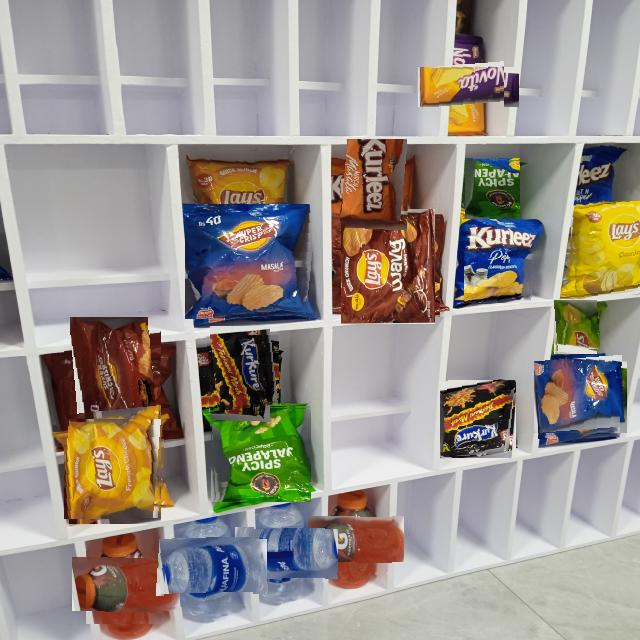Plastic: (185, 204, 318, 320), (336, 214, 440, 318), (57, 330, 161, 434), (64, 419, 166, 519), (210, 405, 311, 502), (568, 201, 640, 299), (538, 355, 622, 439), (172, 526, 254, 608), (86, 543, 167, 624), (464, 222, 539, 303), (201, 335, 279, 412), (440, 380, 516, 458), (247, 516, 325, 592), (340, 146, 414, 221), (432, 51, 504, 123), (321, 503, 392, 575), (193, 159, 290, 207), (464, 157, 520, 219), (575, 145, 629, 202), (551, 302, 600, 351)
